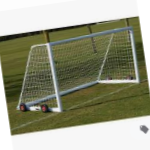goals: (14, 25, 143, 115)
